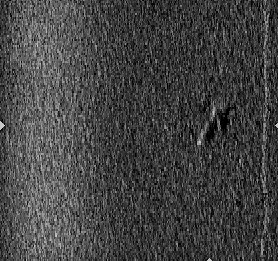mine: (193, 101, 226, 146)
